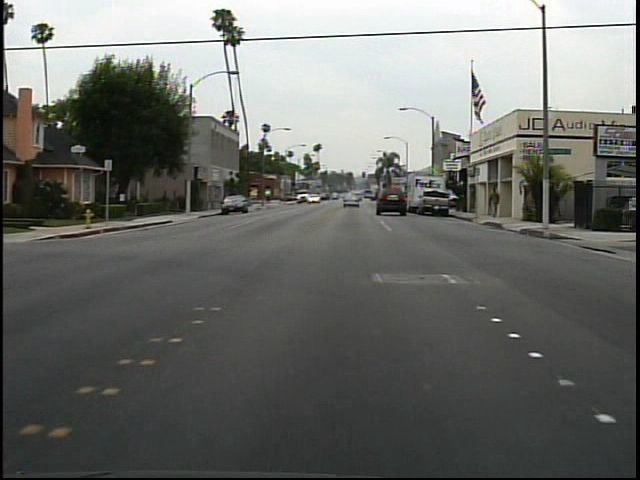person: (484, 186, 504, 221)
